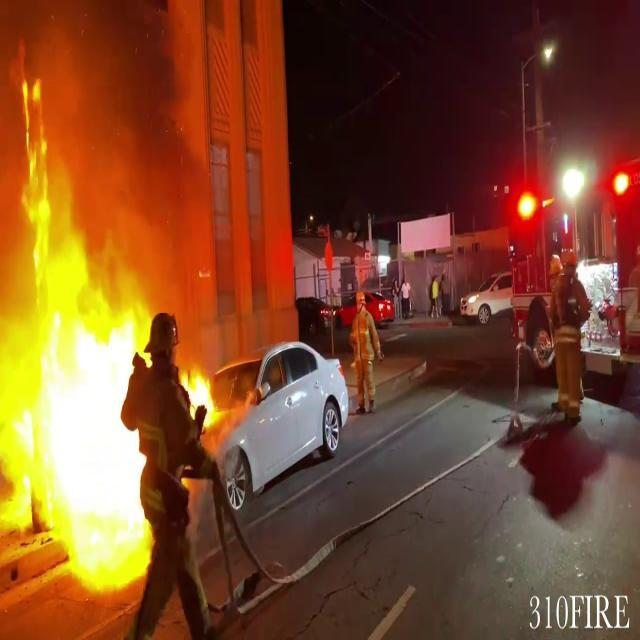Fire: (0, 99, 160, 576), (180, 347, 223, 433)
